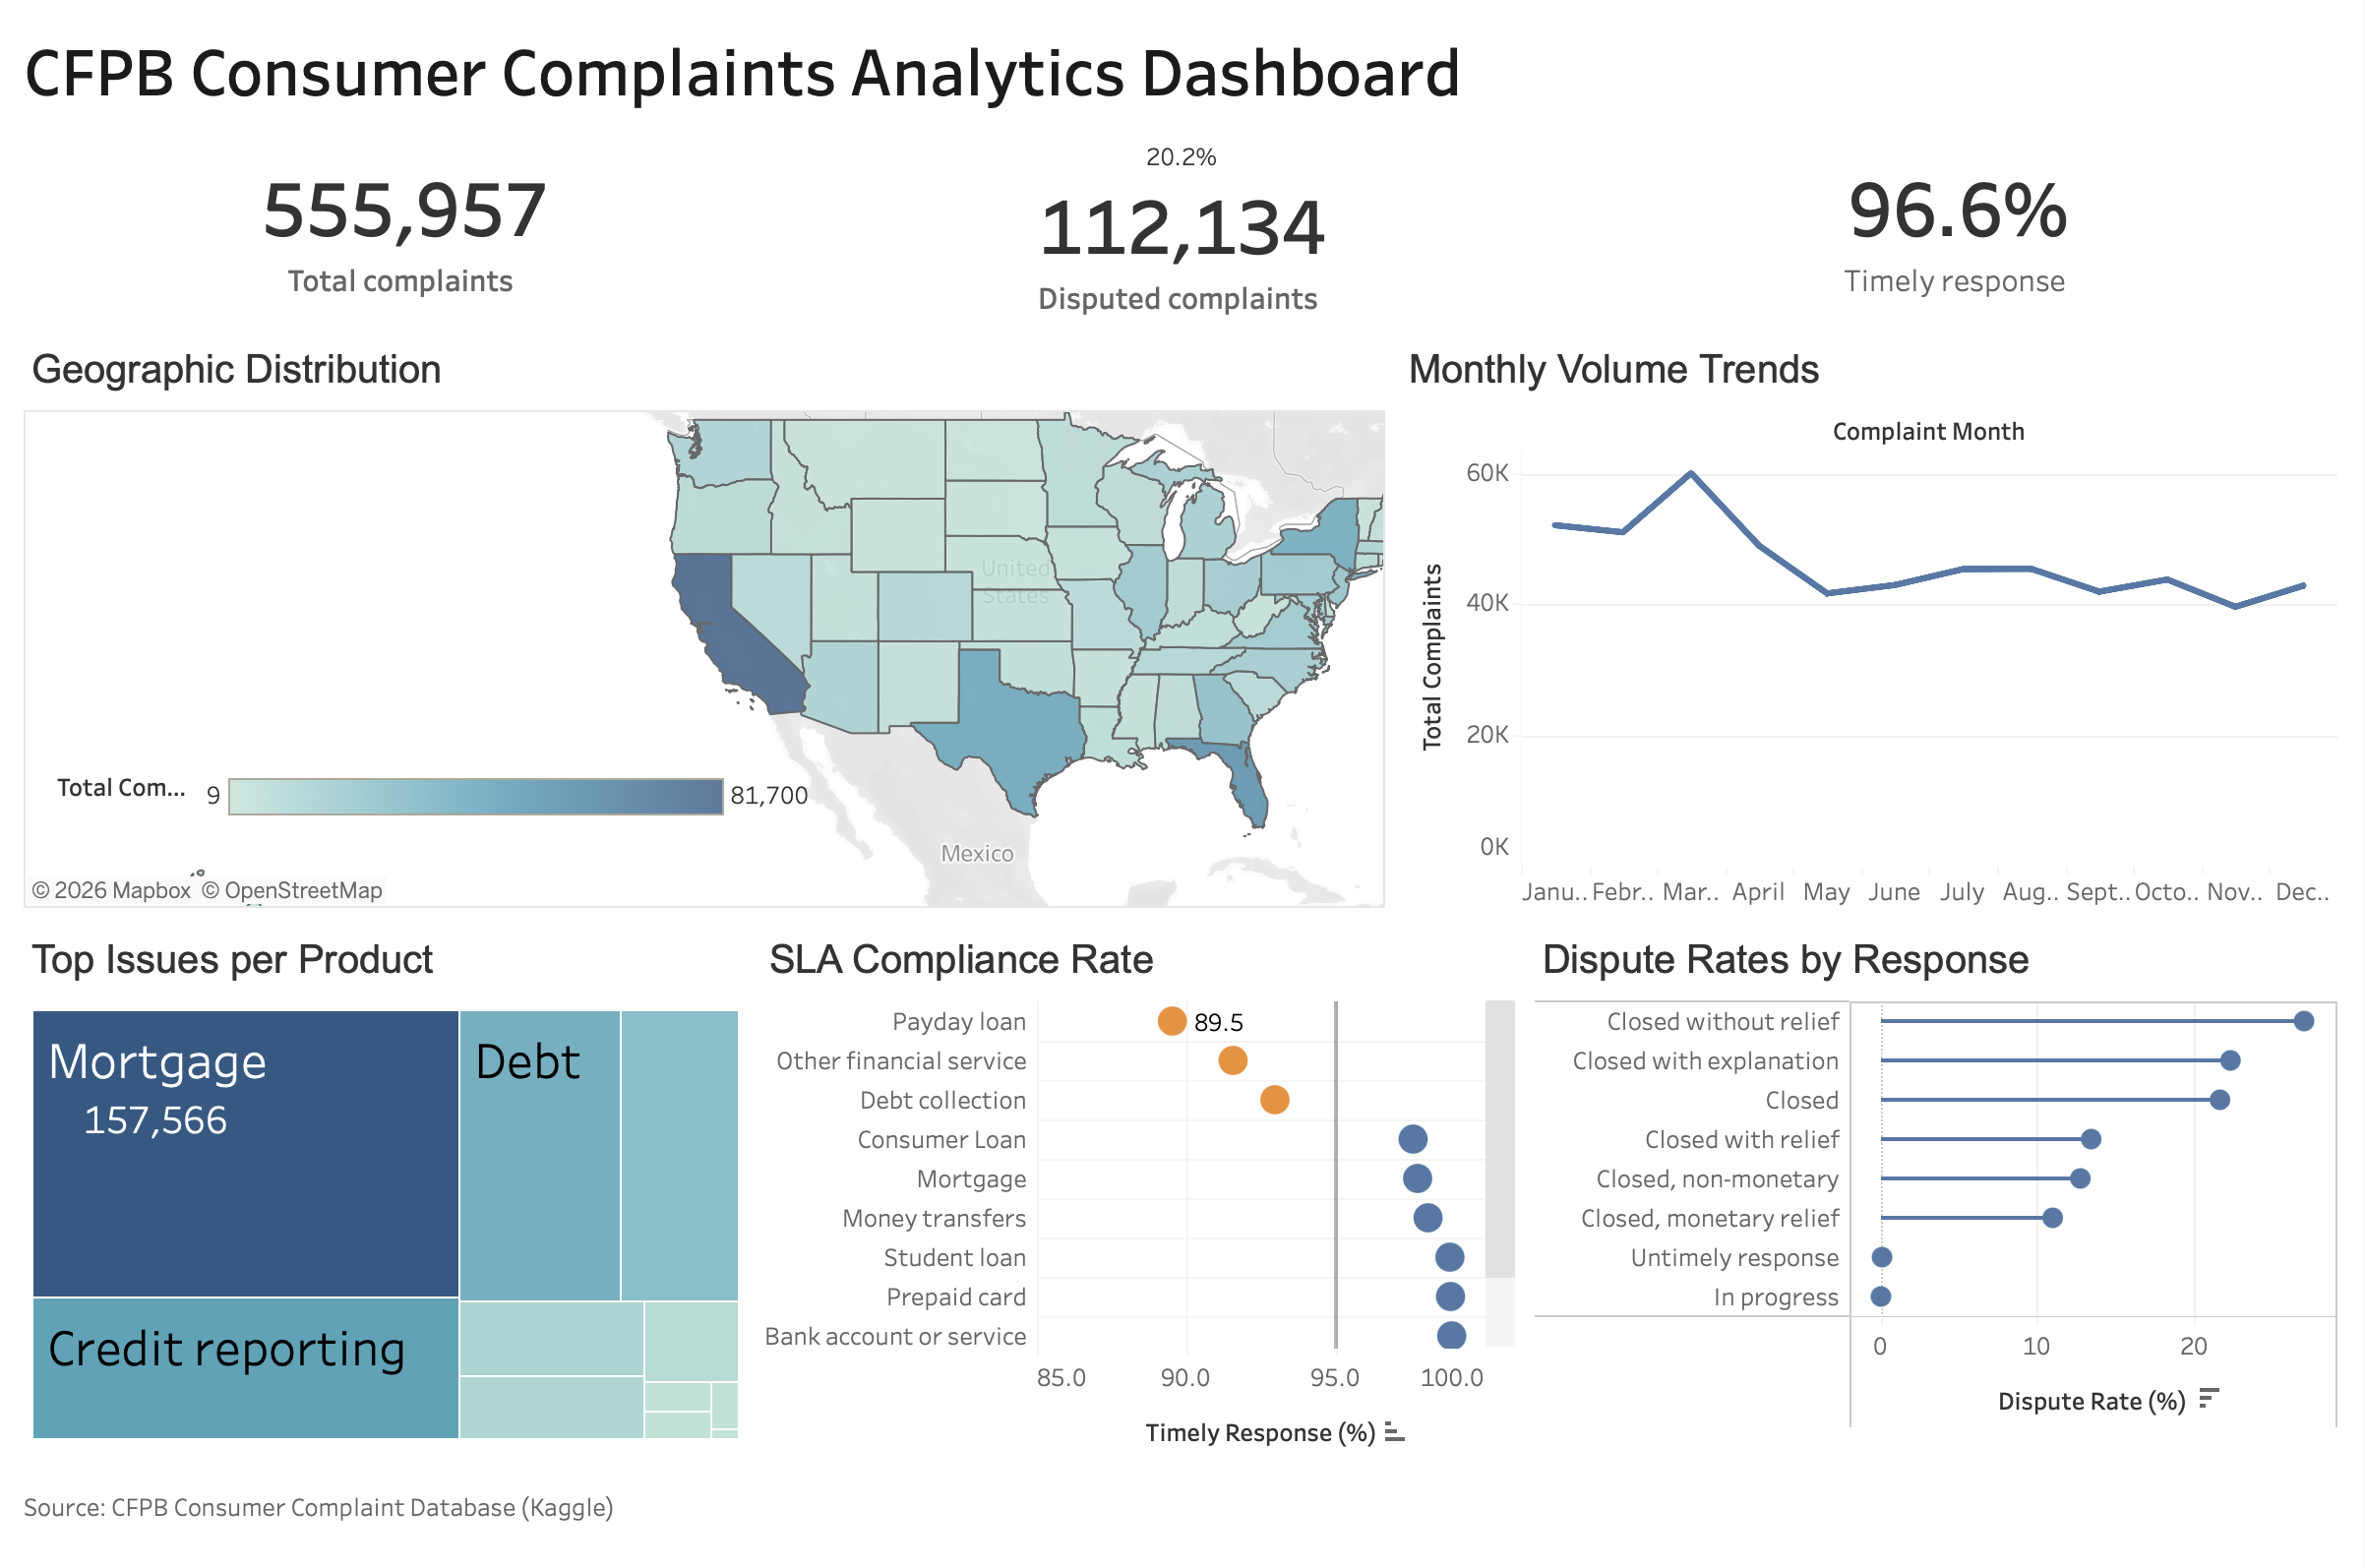

What the dashboard file says about the page in this screenshot:
{"tool":"tableau","page":{"name":"Dashboard 1","canvas":[1200,800],"ordinal":0},"visuals":[{"type":"text","box":[8,8,1184,60]},{"type":"worksheet","title":"KPI Total Complaints","mark":"Automatic","box":[8,68,395,100]},{"type":"worksheet","title":"KPI Disputed","mark":"Automatic","box":[403,68,395,100]},{"type":"worksheet","title":"KPI Timely","mark":"Automatic","box":[798,68,394,100]},{"type":"worksheet","title":"Geographic Distribution","mark":"Automatic","box":[8,168,700,300]},{"type":"worksheet","title":"Monthly Volume Trends","mark":"Automatic","rows":["total_complaints"],"cols":["complaint_month"],"box":[708,168,483.9,300]},{"type":"legend","title":"Geographic Distribution","param":"[federated.1t36bjp0id288g13vwk3517xibdd].[sum:total_complaints:qk]","box":[29,394,387,27]},{"type":"worksheet","title":"Top Issues per Product","mark":"Square","box":[8,468,375,280]},{"type":"worksheet","title":"SLA Compliance Rate","mark":"Circle","rows":["product"],"cols":["timely_percentage"],"box":[383,468,393.5,280]},{"type":"worksheet","title":"Dispute Rates by Response","mark":"Automatic","rows":["company_response_to_consumer"],"cols":["dispute_rate_percentage","dispute_rate_percentage"],"box":[776.5,468,415.5,280]},{"type":"text","box":[8,748,1184,40]}]}

Visuals, with their boxes in screenshot pixels (x1, y1, x2, y2), scaled from the page's 1200x800 canvas onto the 2365x1568 screenshot:
text: 16, 16, 2349, 133
"KPI Total Complaints" worksheet: 16, 133, 794, 330
"KPI Disputed" worksheet: 794, 133, 1573, 330
"KPI Timely" worksheet: 1573, 133, 2349, 330
"Geographic Distribution" worksheet: 16, 330, 1395, 917
"Monthly Volume Trends" worksheet: 1395, 330, 2349, 917
"Geographic Distribution" legend: 57, 772, 819, 825
"Top Issues per Product" worksheet (Square marks): 16, 917, 755, 1466
"SLA Compliance Rate" worksheet (Circle marks): 755, 917, 1531, 1466
"Dispute Rates by Response" worksheet: 1531, 917, 2349, 1466
text: 16, 1466, 2349, 1544
